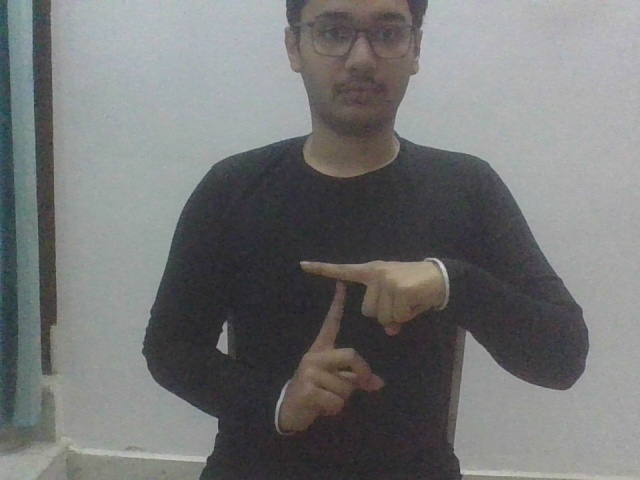T: (272, 255, 450, 437)
